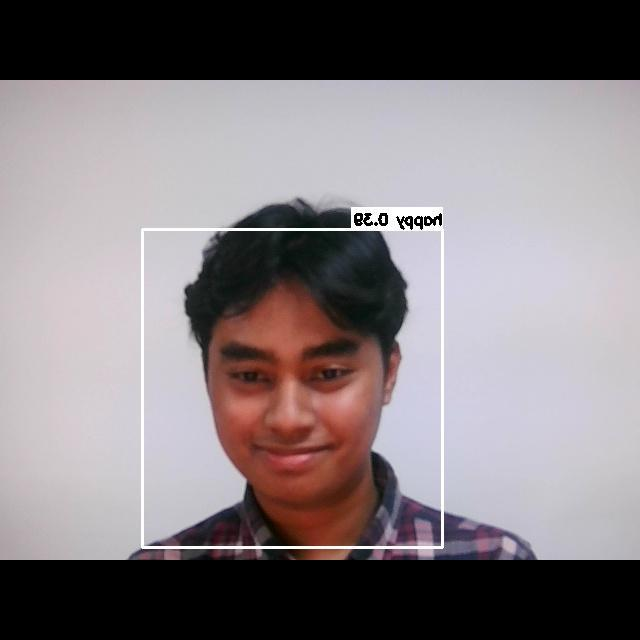Happy: (201, 310, 378, 479)
